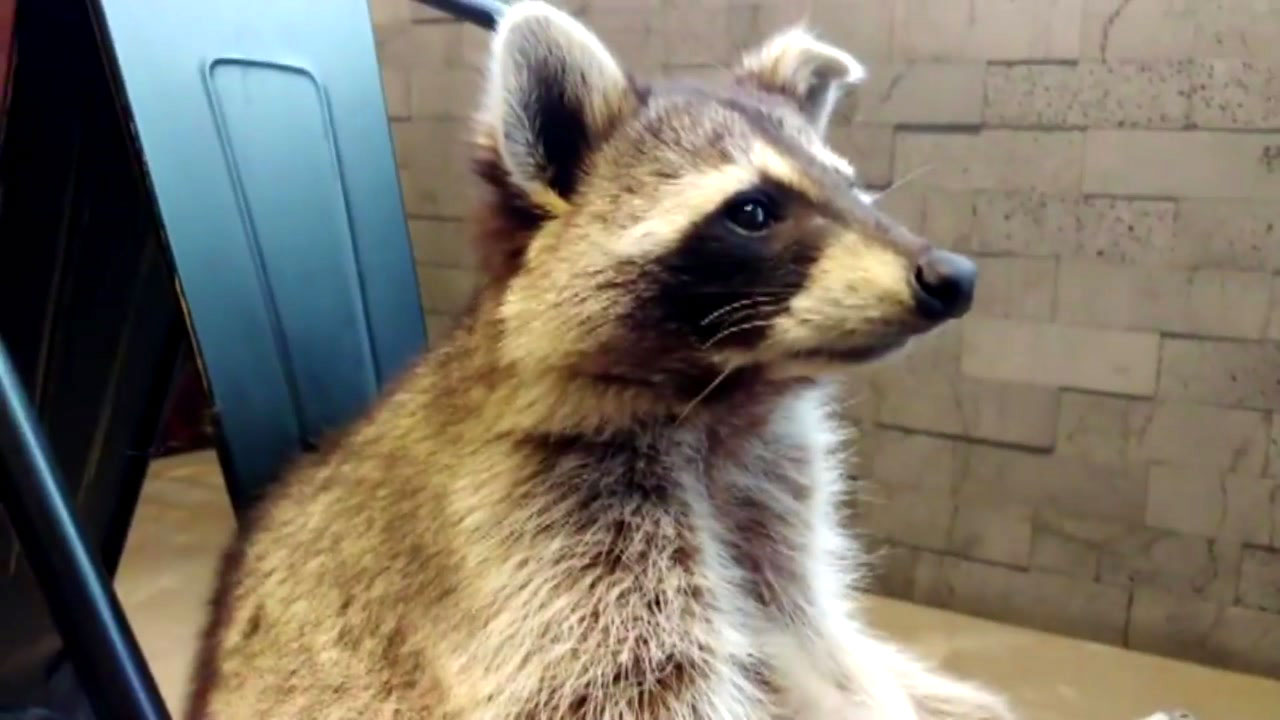raccoon: (216, 1, 1011, 720)
